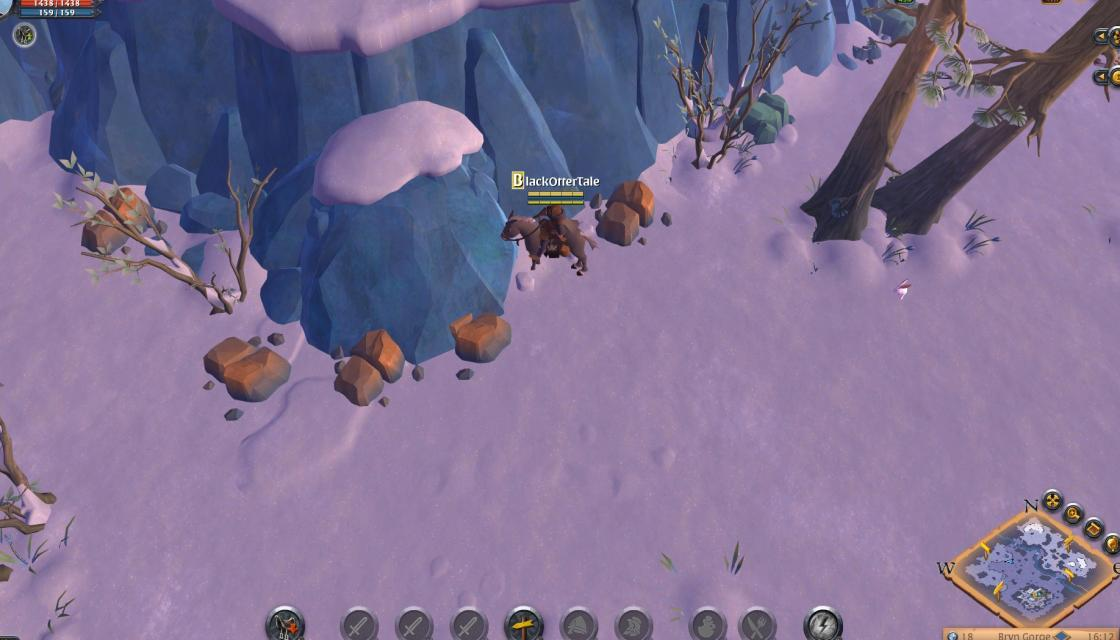limestone: (200, 332, 295, 402), (328, 324, 409, 406), (73, 184, 158, 258), (591, 177, 660, 244), (444, 308, 514, 366)
sandstone: (720, 88, 796, 142)
